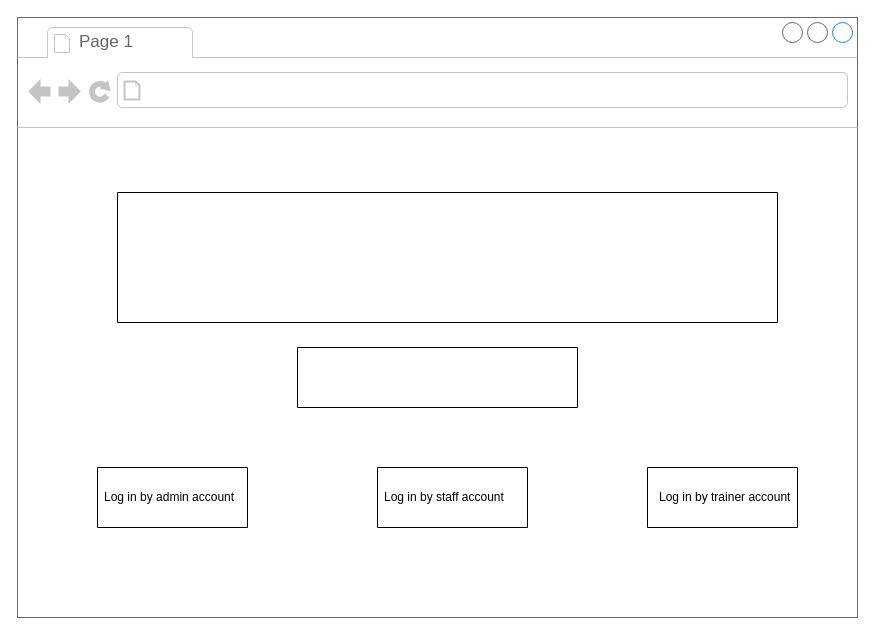
This 875x635 diagram has some shape labels left out. The shapes that lost their labels are listed below. From the top down, each one's centre as x and y in pixels, then its label:
point (447, 257): Logo
point (437, 377): Header
